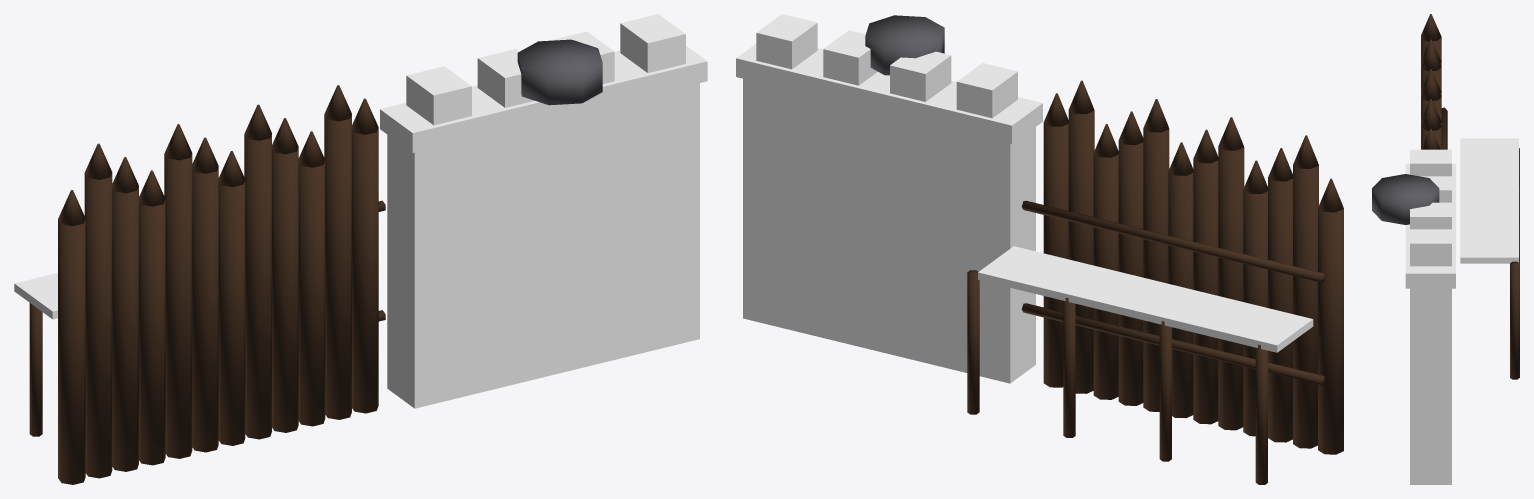
The model's file is palisada_i_mur.glb.
3 renders of one model, left to right at view 1: azimuth 30°, elevation 25°; view 2: azimuth 150°, elevation 25°; view 3: azimuth 270°, elevation 25°, orthographic. The views are drawn at different scales.
Visible parts, largest first — view 1: palisada_32, palisada_33, palisada_3, palisada_9, palisada_15, palisada_21, palisada_17, palisada_23, palisada_11, palisada_5, palisada_1, palisada_19 (+9 smaller); view 2: palisada_32, palisada_27, palisada_33, palisada_3, palisada_1, palisada_9, palisada_11, palisada_17, palisada_21, palisada_5, palisada_15, palisada_23 (+14 smaller); view 3: palisada_32, palisada_27, palisada_38, palisada_33, palisada_37, palisada_31, palisada_34, palisada_36, palisada_35, palisada_4, palisada_16, palisada_22 (+7 smaller).
Part boxes in pixels (<box>): palisada_32: <box>387,83,699,408</box>; palisada_33: <box>380,46,707,152</box>; palisada_3: <box>84,173,112,478</box>; palisada_9: <box>164,153,192,458</box>; palisada_15: <box>244,134,271,439</box>; palisada_21: <box>324,114,351,419</box>; palisada_17: <box>272,147,298,432</box>; palisada_23: <box>352,127,378,413</box>; palisada_11: <box>192,167,218,452</box>; palisada_5: <box>112,186,138,471</box>; palisada_1: <box>58,219,85,484</box>; palisada_19: <box>298,160,325,426</box>; palisada_32: <box>743,78,1035,383</box>; palisada_27: <box>978,246,1313,352</box>; palisada_33: <box>736,44,1042,144</box>; palisada_3: <box>1293,165,1318,448</box>; palisada_1: <box>1318,208,1343,454</box>; palisada_9: <box>1218,146,1244,430</box>; palisada_11: <box>1193,159,1218,424</box>; palisada_17: <box>1118,141,1143,405</box>; palisada_21: <box>1068,110,1094,393</box>; palisada_5: <box>1268,177,1292,442</box>; palisada_15: <box>1143,128,1169,411</box>; palisada_23: <box>1043,122,1068,387</box>; palisada_32: <box>1410,288,1451,484</box>; palisada_27: <box>1460,138,1518,263</box>; palisada_38: <box>1372,174,1439,224</box>; palisada_33: <box>1405,163,1455,288</box>; palisada_37: <box>1410,229,1451,266</box>; palisada_31: <box>1510,261,1519,379</box>; palisada_34: <box>1410,149,1451,176</box>; palisada_36: <box>1410,202,1451,229</box>; palisada_35: <box>1420,176,1451,202</box>; palisada_4: <box>1421,14,1441,41</box>; palisada_16: <box>1421,73,1441,101</box>; palisada_22: <box>1421,103,1441,130</box>.
Size of the model in its own units: 6.64 by 3.3 by 1.76.
